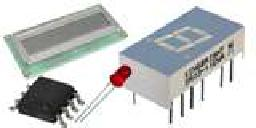LED: (105, 62, 133, 91)
